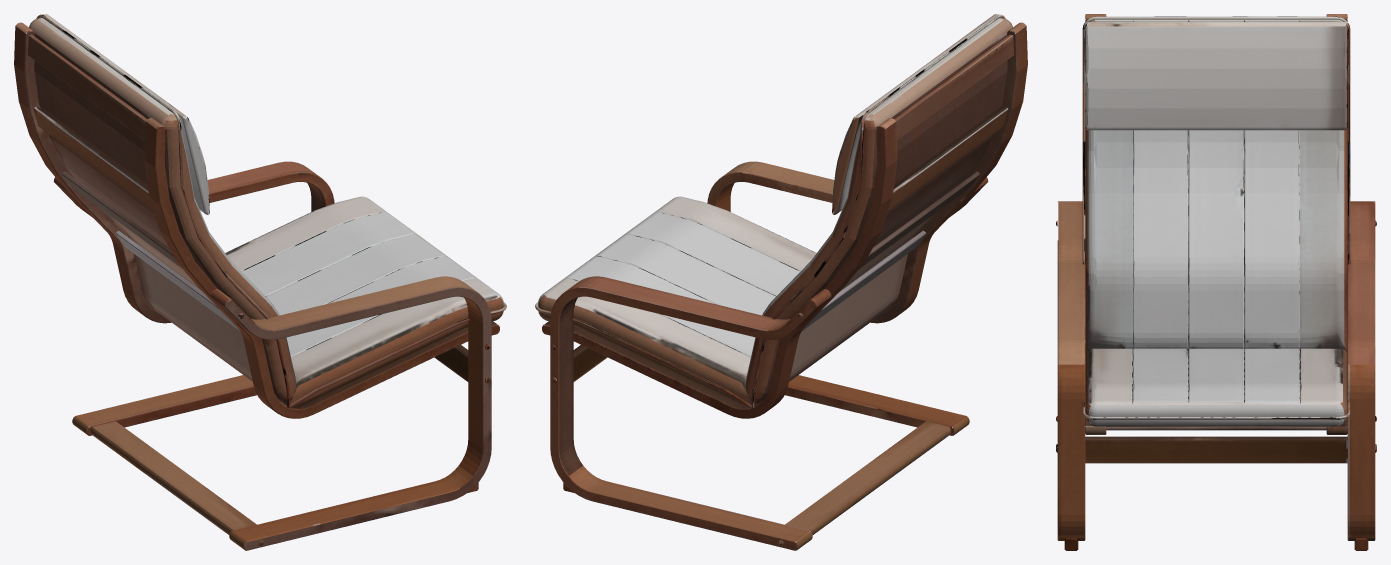
3 views of the same model, side by side, from view 1: azimuth 30°, elevation 25°; view 2: azimuth 150°, elevation 25°; view 3: azimuth 270°, elevation 25° (orthographic). The views are drawn at different scales.
Visible parts, largest first — view 1: Node; view 2: Node; view 3: Node.
Boxes of the visible parts, x1,y1,x2,y2 form: Node: (14, 14, 506, 550); Node: (535, 14, 1027, 550); Node: (1056, 14, 1376, 550).
Bounding box in the file's own units: 0.5949 × 0.7 × 0.5027.
Materials: 1 (1 with a texture image).
